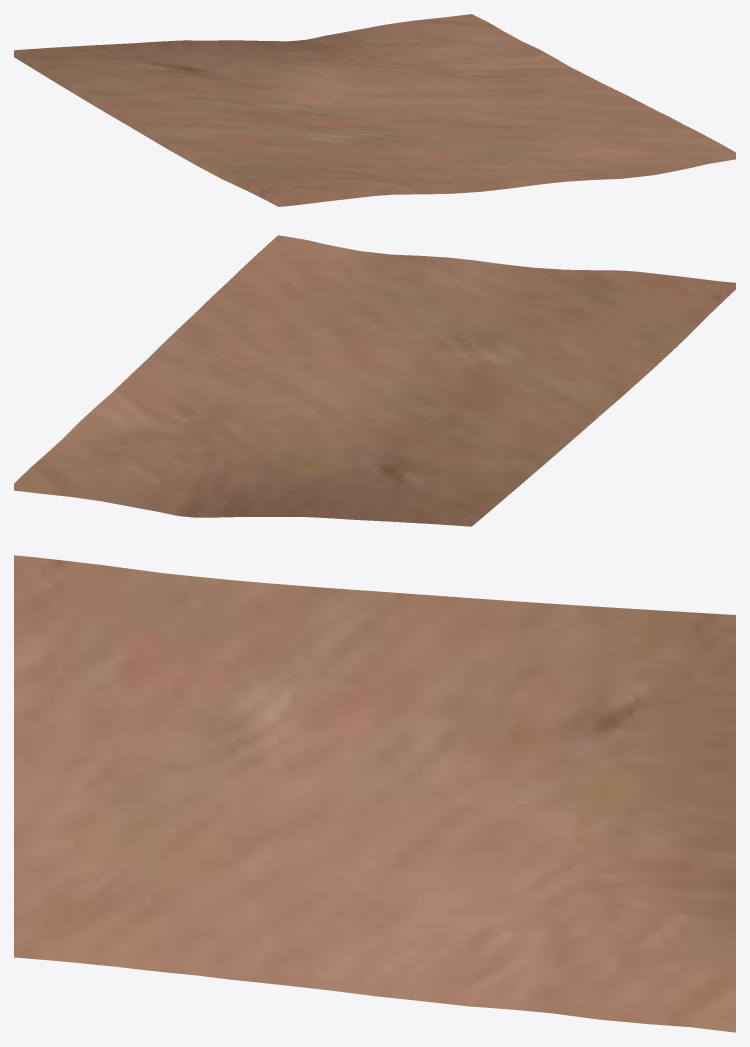
The picture shows the model from 3 angles, top to bottom: view 1: azimuth 30°, elevation 25°; view 2: azimuth 150°, elevation 25°; view 3: azimuth 270°, elevation 25°; orthographic projection. The views are drawn at different scales.
Size of the model in its own units: 0.5 by 0.1316 by 0.5.
1 material, 1 textured.
